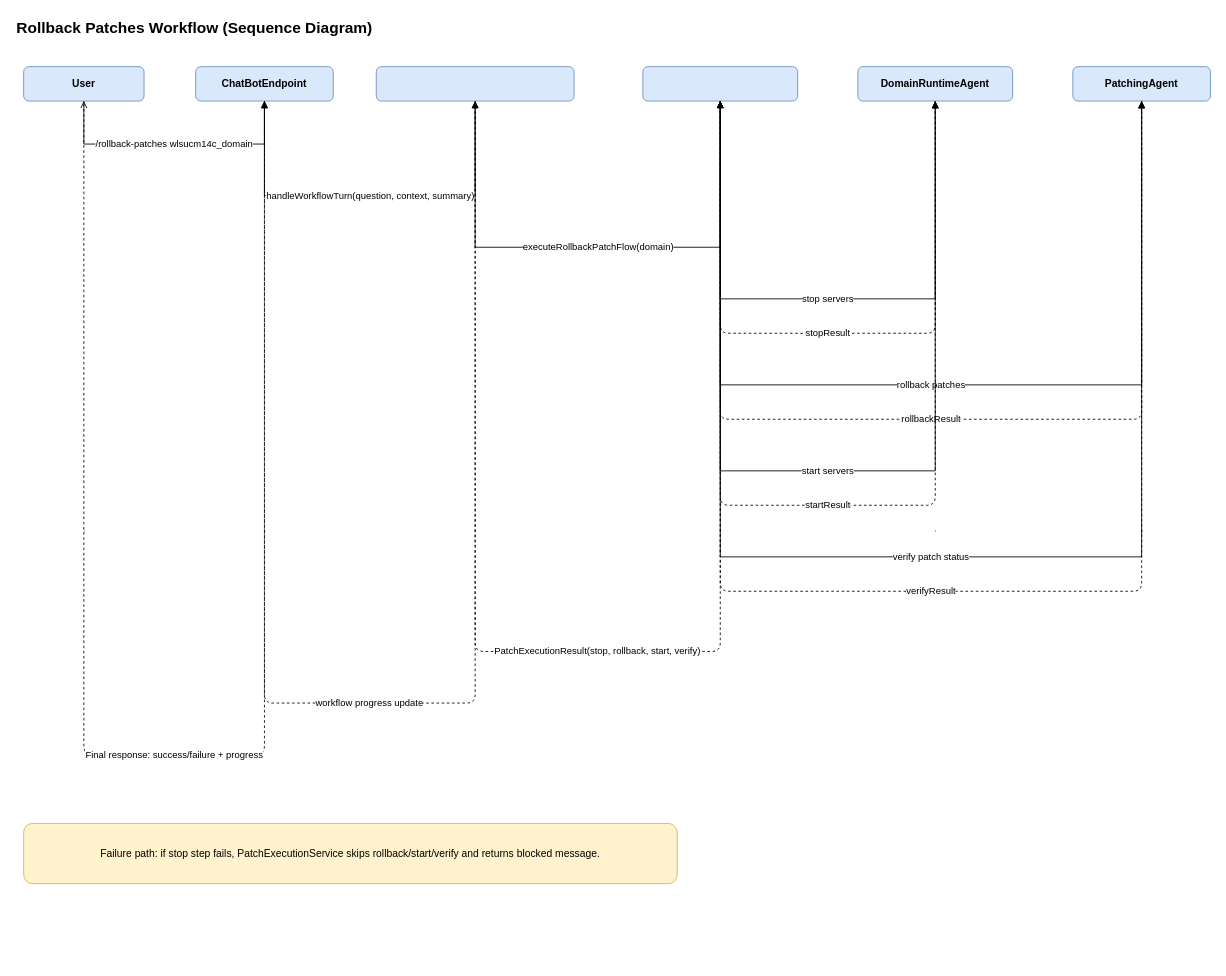
The diagram is 1226 pixels wide and 976 high, and some of its shapes have lost their labels. Here are the shapes that lost their labels. From the top down, the centre of each, then its label:
At (474,83): "WorkflowOrchestratorService".
At (720,83): "PatchExecutionService".
